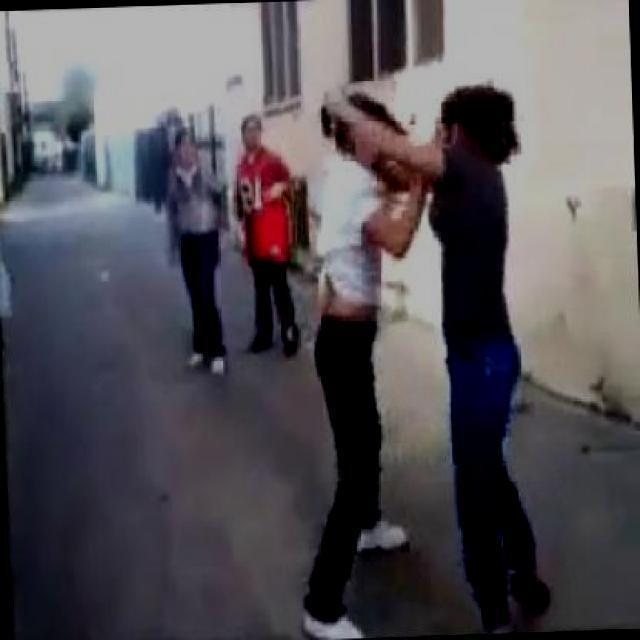fight: (298, 70, 531, 627)
